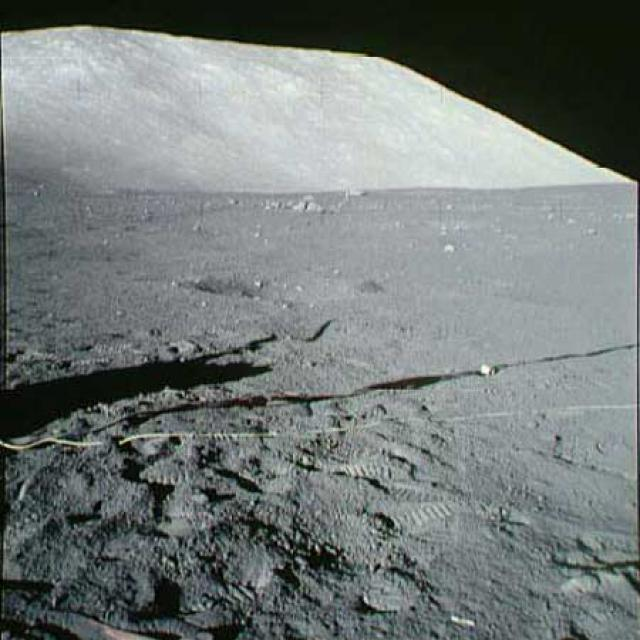crater: (170, 267, 357, 304), (56, 233, 228, 257)
rock: (287, 190, 322, 212), (343, 187, 369, 199)
